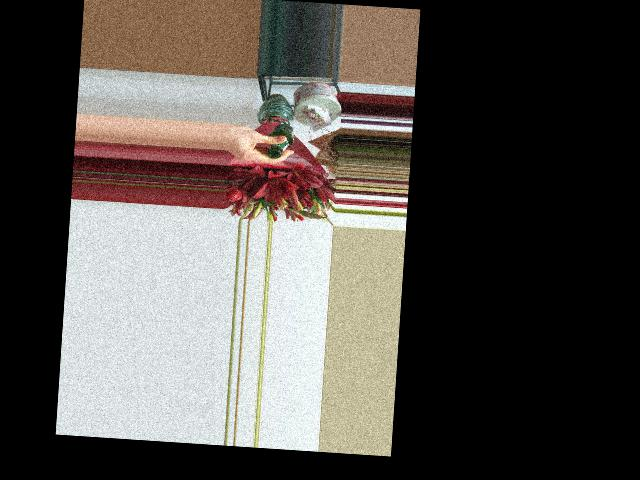beer: (265, 122, 294, 159)
